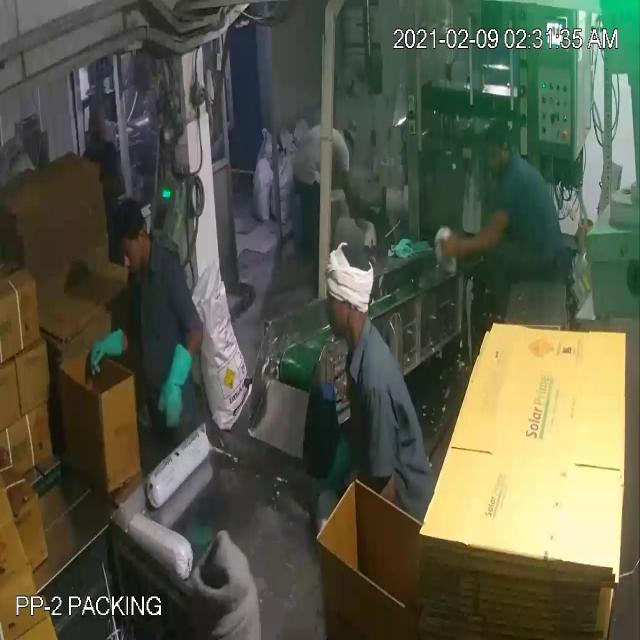gloves: (150, 335, 198, 431), (76, 316, 138, 384)
no-gloves: (434, 201, 518, 259)
